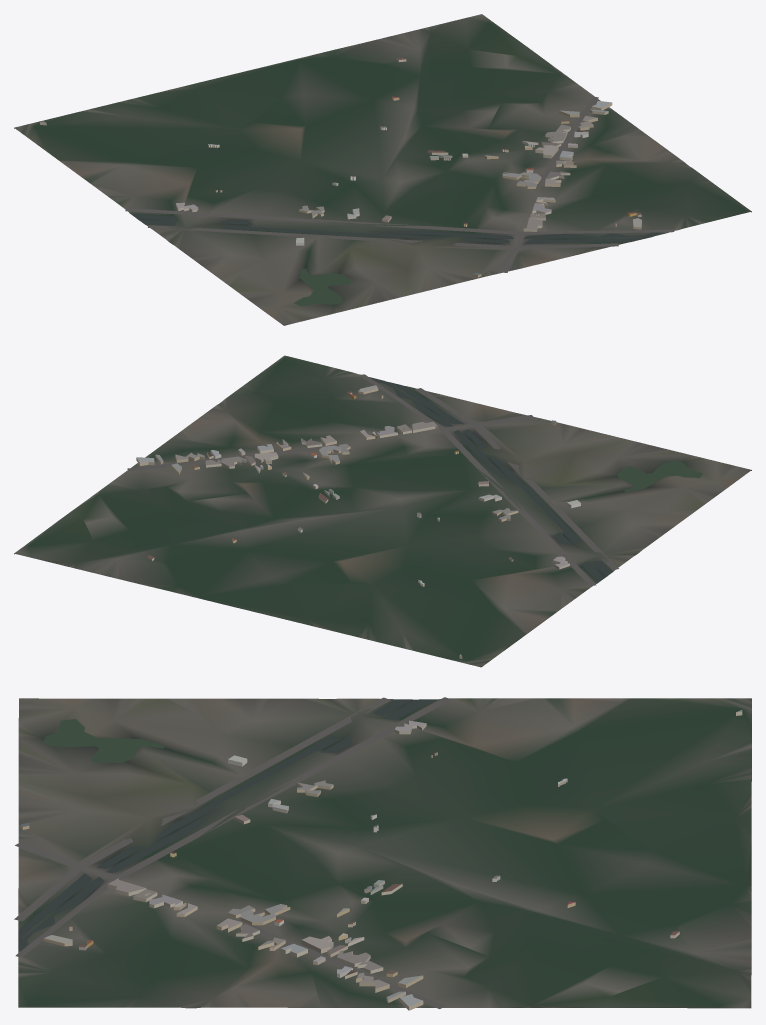
The picture shows the model from 3 angles, top to bottom: view 1: azimuth 30°, elevation 25°; view 2: azimuth 150°, elevation 25°; view 3: azimuth 270°, elevation 25°; orthographic projection. The views are drawn at different scales.
Parts seen in each view (by area): view 1: ground, buildings, roads, water; view 2: ground, buildings, roads, water; view 3: ground, buildings, water, roads.
Part boxes in pixels (x1,y1,x2,y2): ground: (14, 14, 751, 325); buildings: (40, 58, 641, 277); roads: (125, 96, 674, 272); water: (132, 214, 666, 306); ground: (14, 355, 751, 667); buildings: (136, 385, 580, 658); roads: (127, 374, 618, 585); water: (369, 377, 702, 582); ground: (18, 698, 751, 1008); buildings: (21, 710, 742, 1010); water: (19, 699, 433, 951); roads: (14, 697, 451, 1008).
Bounding box in the file's own units: 1417 × 17.04 × 1410.
